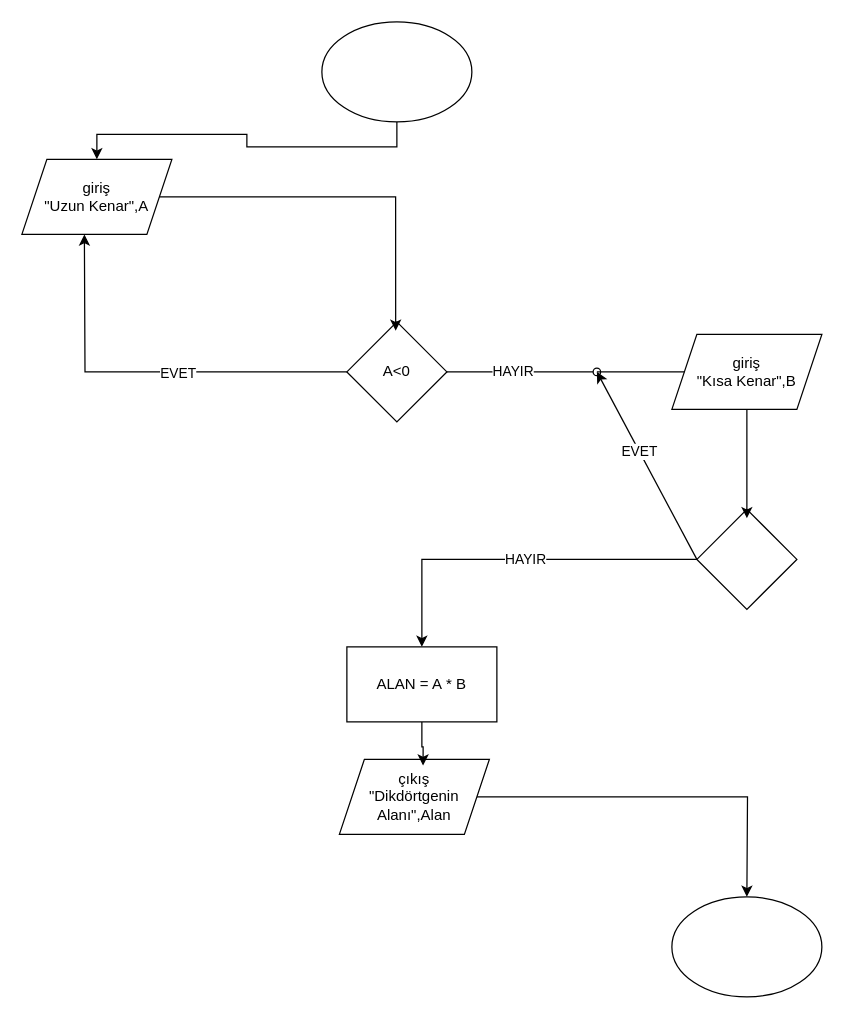
The diagram is 844 pixels wide and 1019 high, and some of its shapes have lost their labels. Here are the shapes that lost their labels. From the top down, the centre of each, then its label:
At pixel 396 71: "BAŞLA".
At pixel 746 558: "B<0".
At pixel 746 946: "dur".
